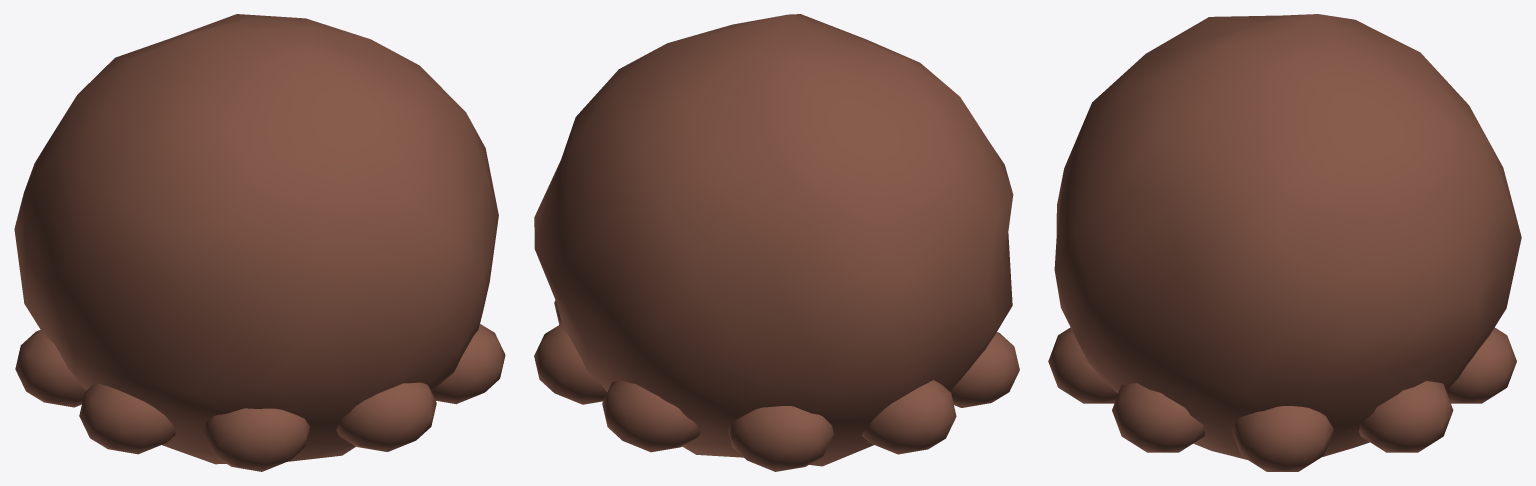
Rendered from Chocolate_scoop.fbx.
3 renders of one model, left to right at view 1: azimuth 30°, elevation 25°; view 2: azimuth 150°, elevation 25°; view 3: azimuth 270°, elevation 25°, orthographic.
Parts seen in each view (by area): view 1: Toon_Chocolate_scoop Chocolate scoop.001, Toon_Chocolate_scoop Ruffled scoop edge.015, Toon_Chocolate_scoop Ruffled scoop edge.016, Toon_Chocolate_scoop Ruffled scoop edge.014, Toon_Chocolate_scoop Ruffled scoop edge.013, Toon_Chocolate_scoop Ruffled scoop edge.017; view 2: Toon_Chocolate_scoop Chocolate scoop.001, Toon_Chocolate_scoop Ruffled scoop edge.012, Toon_Chocolate_scoop Ruffled scoop edge.011, Toon_Chocolate_scoop Ruffled scoop edge.013, Toon_Chocolate_scoop Ruffled scoop edge.010, Toon_Chocolate_scoop Ruffled scoop edge.014; view 3: Toon_Chocolate_scoop Chocolate scoop.001, Toon_Chocolate_scoop Ruffled scoop edge.009, Toon_Chocolate_scoop Ruffled scoop edge.010, Toon_Chocolate_scoop Ruffled scoop edge.017, Toon_Chocolate_scoop Ruffled scoop edge.011, Toon_Chocolate_scoop Ruffled scoop edge.016.
Part boxes in pixels (x1,y1,x2,y2): Toon_Chocolate_scoop Chocolate scoop.001: (14,14,498,464); Toon_Chocolate_scoop Ruffled scoop edge.015: (203,408,309,471); Toon_Chocolate_scoop Ruffled scoop edge.016: (336,382,436,451); Toon_Chocolate_scoop Ruffled scoop edge.014: (79,383,175,454); Toon_Chocolate_scoop Ruffled scoop edge.013: (15,330,85,407); Toon_Chocolate_scoop Ruffled scoop edge.017: (431,324,505,404); Toon_Chocolate_scoop Chocolate scoop.001: (534,14,1013,466); Toon_Chocolate_scoop Ruffled scoop edge.012: (728,406,833,471); Toon_Chocolate_scoop Ruffled scoop edge.011: (602,380,700,452); Toon_Chocolate_scoop Ruffled scoop edge.013: (862,380,956,454); Toon_Chocolate_scoop Ruffled scoop edge.010: (534,323,607,404); Toon_Chocolate_scoop Ruffled scoop edge.014: (950,332,1019,407); Toon_Chocolate_scoop Chocolate scoop.001: (1054,14,1521,459); Toon_Chocolate_scoop Ruffled scoop edge.009: (1231,406,1333,471); Toon_Chocolate_scoop Ruffled scoop edge.010: (1359,381,1453,452); Toon_Chocolate_scoop Ruffled scoop edge.017: (1112,383,1205,452); Toon_Chocolate_scoop Ruffled scoop edge.011: (1446,327,1516,403); Toon_Chocolate_scoop Ruffled scoop edge.016: (1048,327,1117,403).
Size of the model in its own units: 10.56 by 9.6 by 10.18.
